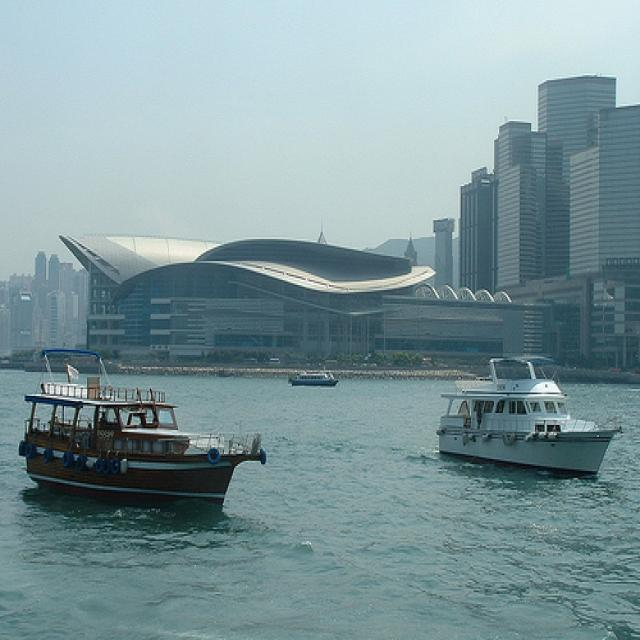boat: (18, 348, 267, 510), (435, 354, 624, 479), (288, 366, 340, 390)
